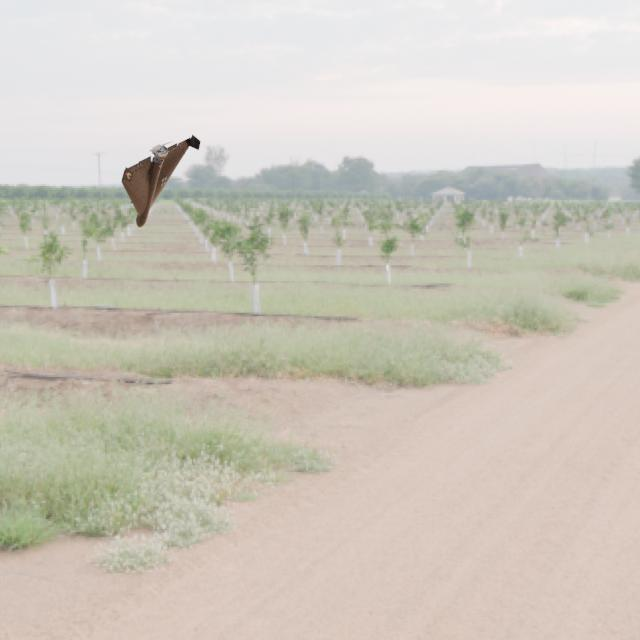Airaplan: (121, 134, 201, 228)
